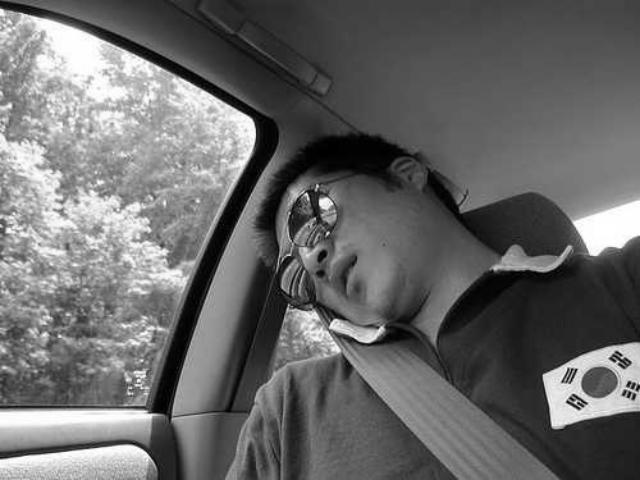Seatbelt: (309, 296, 567, 480)
